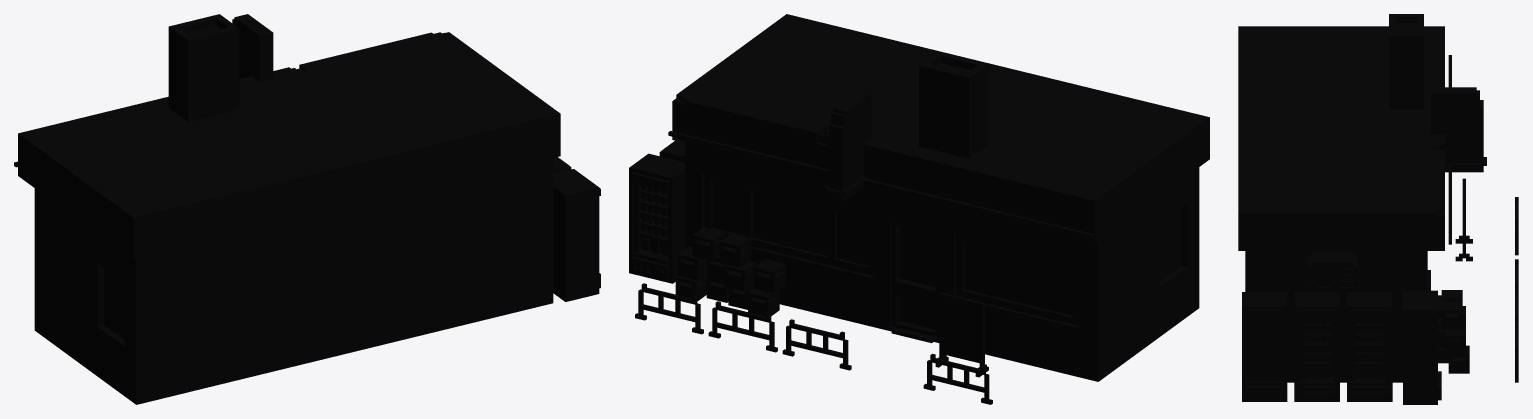
The model's file is debug.fbx.
The picture shows the model from 3 angles, left to right: view 1: azimuth 30°, elevation 25°; view 2: azimuth 150°, elevation 25°; view 3: azimuth 270°, elevation 25°; orthographic projection. The views are drawn at different scales.
Visible parts, largest first — view 1: ShopBuilding_1; view 2: ShopBuilding_1; view 3: ShopBuilding_1.
Boxes of the visible parts, x1=… form: ShopBuilding_1: x1=14, y1=14, x2=600, y2=404; ShopBuilding_1: x1=629, y1=14, x2=1209, y2=404; ShopBuilding_1: x1=1238, y1=14, x2=1518, y2=404.
Size of the model in its own units: 1400 by 770 by 800.
